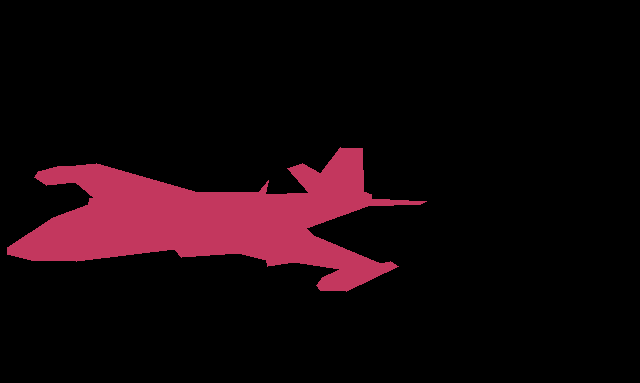Airplane: (7, 147, 426, 291)
